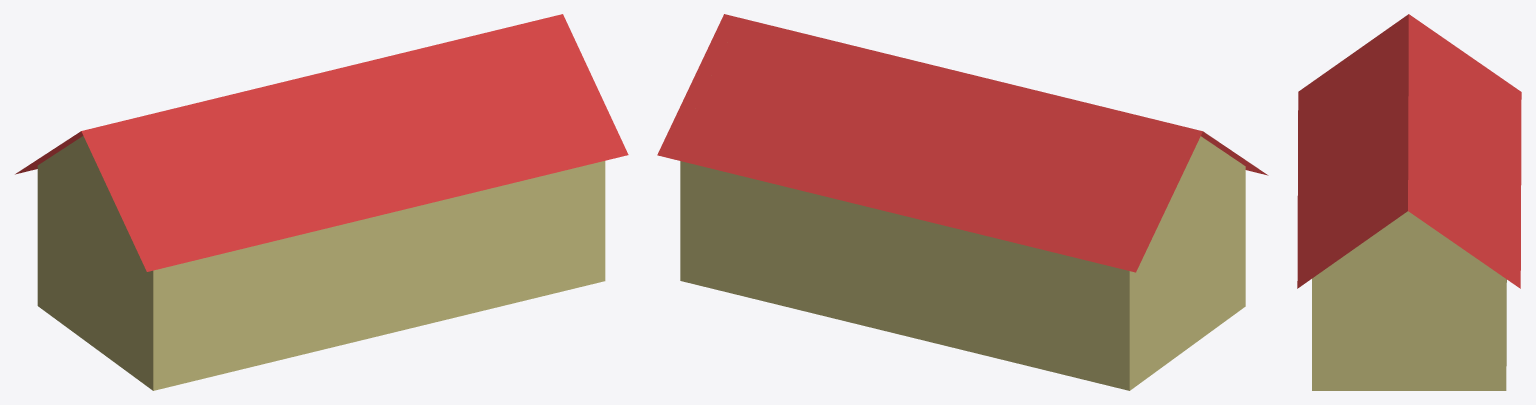
3 views of the same model, side by side, from view 1: azimuth 30°, elevation 25°; view 2: azimuth 150°, elevation 25°; view 3: azimuth 270°, elevation 25° (orthographic). The views are drawn at different scales.
Size of the model in its own units: 24.33 by 11.68 by 10.7.
